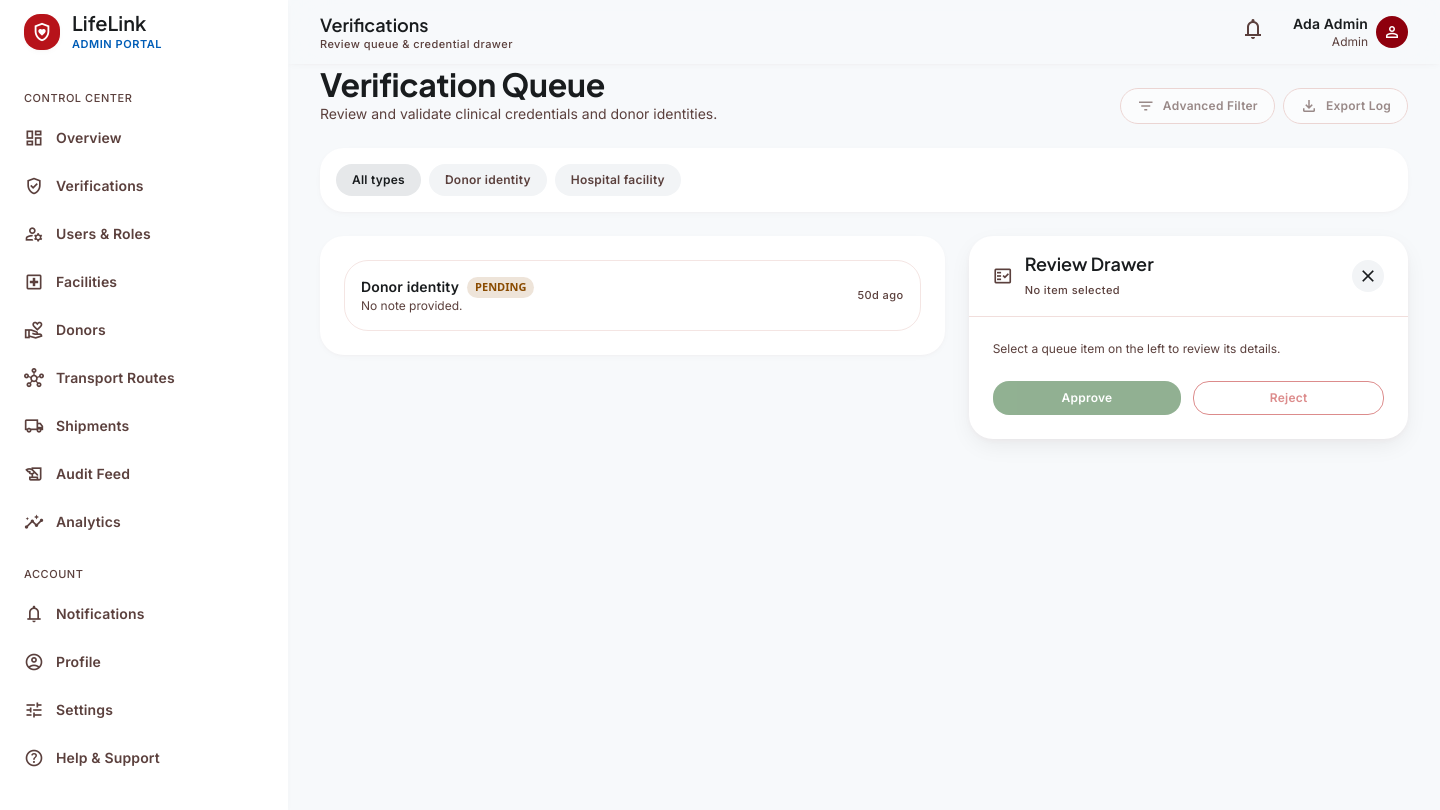
it: VerificationsQueue malware-scan states › links a clean document and allows approval
Click the button "PENDING" at (410,287), box [344, 260, 921, 330]
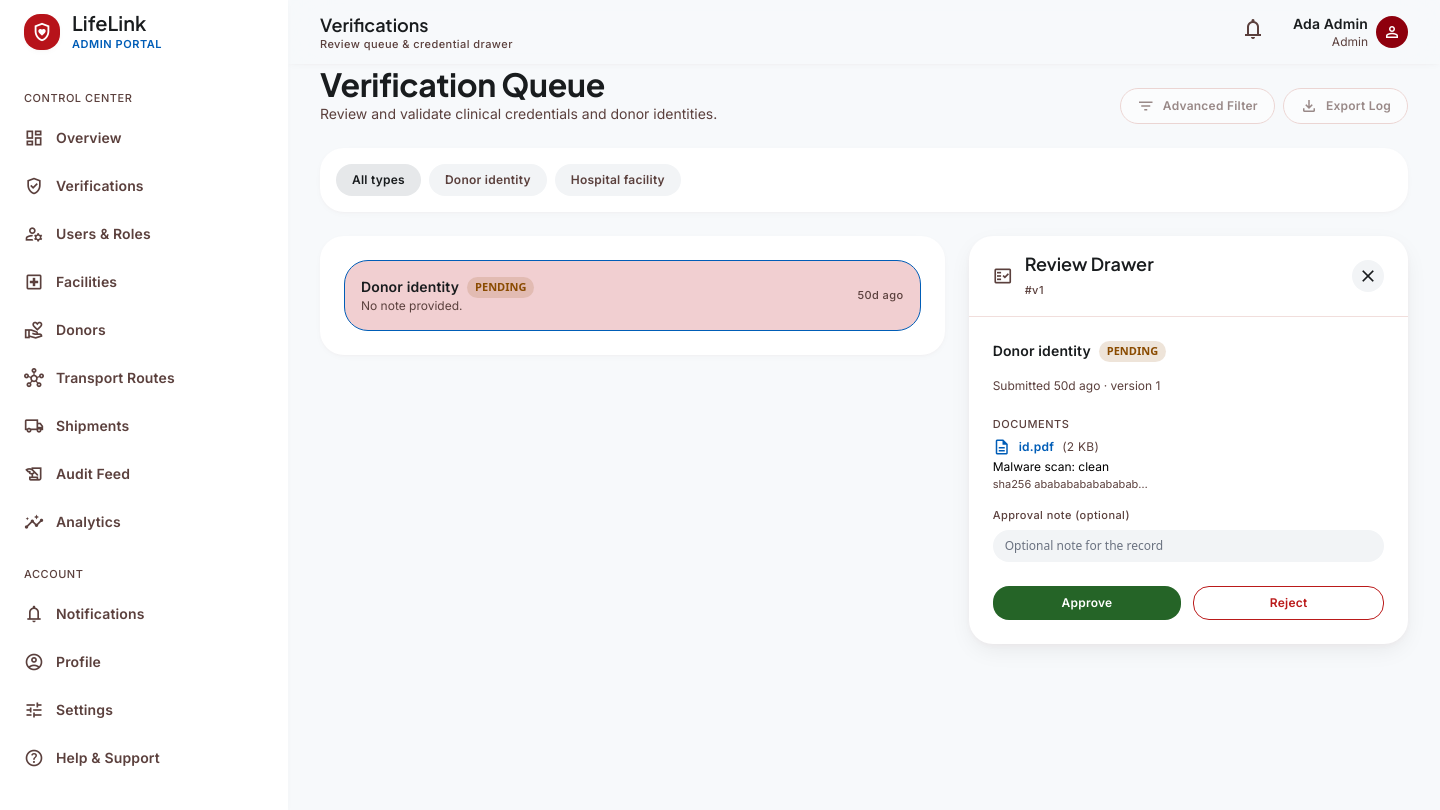
Expected: the list item with test id "verification-doc-0" is shown, [993, 436, 1148, 490]
Expected: the link "id.pdf (2 KB)" is shown, [993, 436, 1099, 458]
Expected: the button "Approve" is enabled, [993, 586, 1181, 620]
